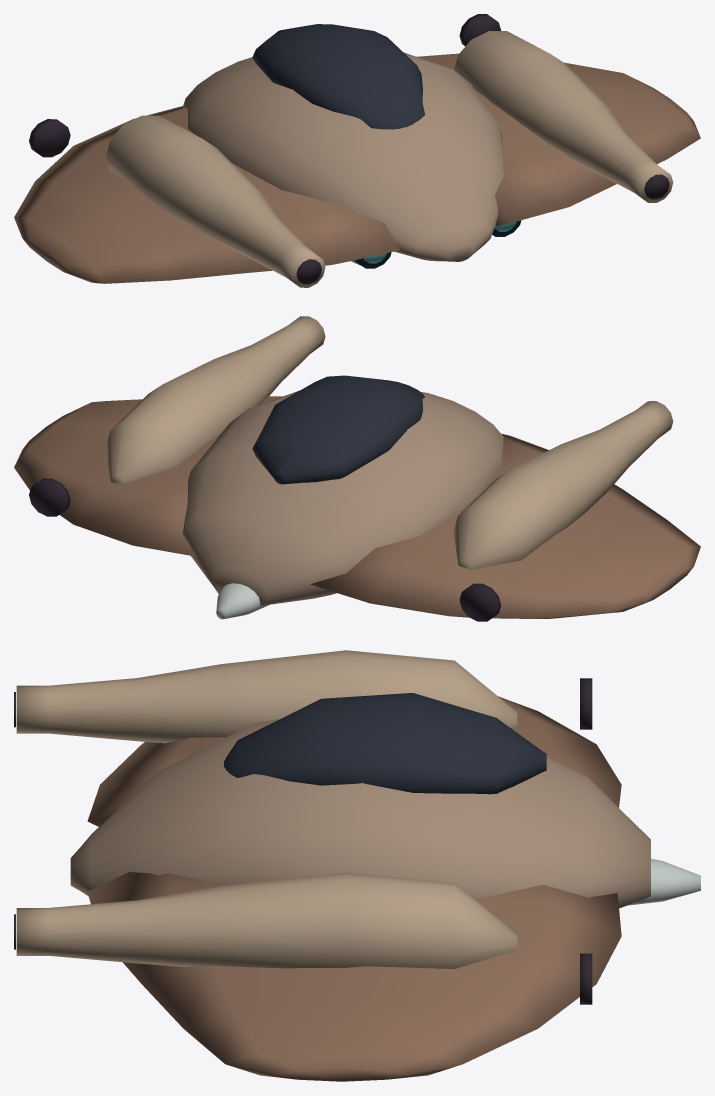
The model's file is pulse-vehicles.glb.
The picture shows the model from 3 angles, top to bottom: view 1: azimuth 30°, elevation 25°; view 2: azimuth 150°, elevation 25°; view 3: azimuth 270°, elevation 25°; orthographic projection. The views are drawn at different scales.
Parts seen in each view (by area): view 1: manta_boss, interceptor; view 2: manta_boss, interceptor; view 3: manta_boss, interceptor.
Boxes of the visible parts, box(x1,y1,x2,y2) form: manta_boss: box(14, 14, 700, 287); interceptor: box(351, 220, 521, 268); manta_boss: box(14, 316, 700, 621); interceptor: box(216, 583, 269, 619); manta_boss: box(14, 650, 650, 1081); interceptor: box(627, 858, 700, 905).
Size of the model in its own units: 2.26 by 0.54 by 1.65.
